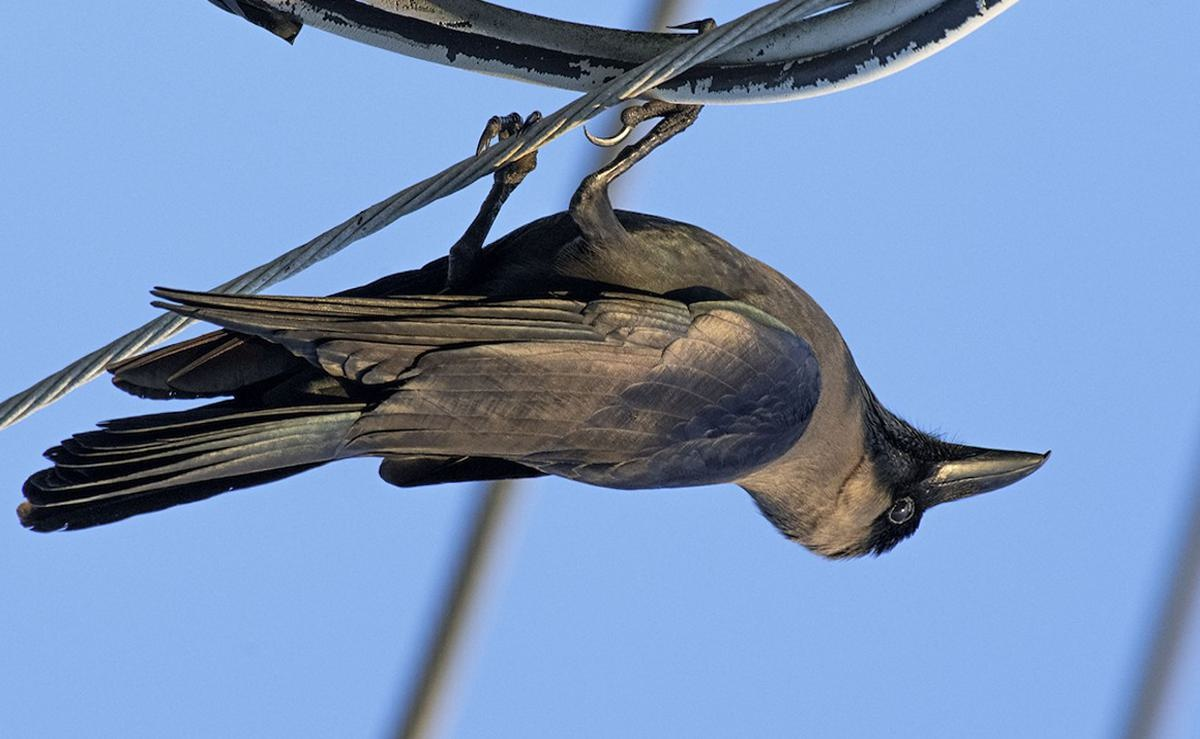crow: (58, 105, 1082, 576)
